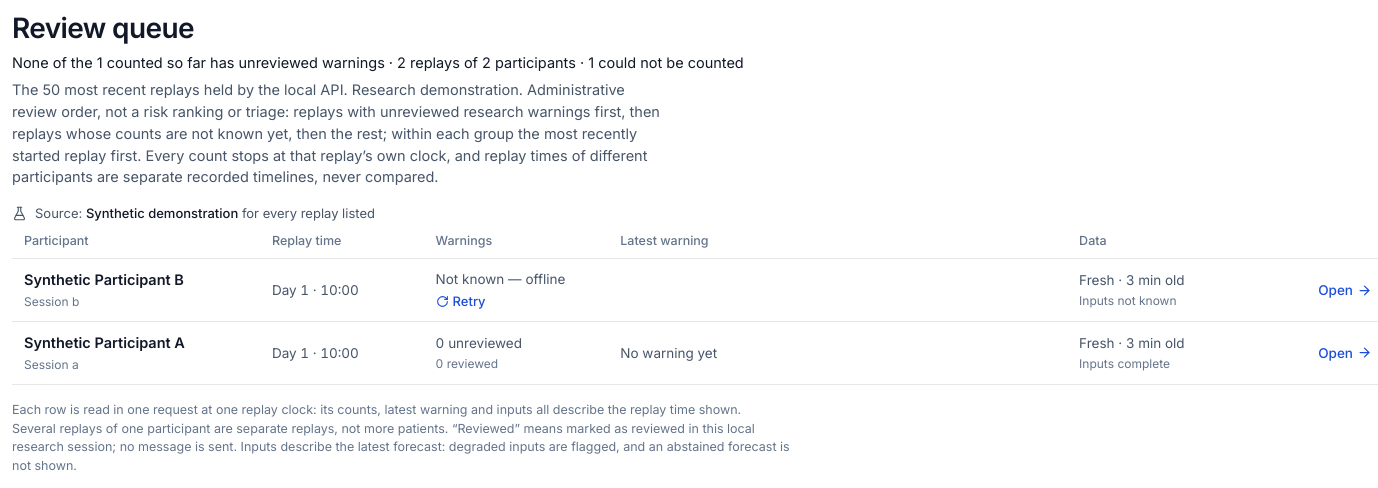
Test: review queue page › marks a failed row as not known, keeps the partial total honest, and retries on request
The width and height of the screenshot is (1378, 488).
Expected: the text "None of the 1 counted so far has unreviewed warnings · 2 replays of 2 participants · 1 could not be counted" is shown, [12,54,744,71]
Expected: the text "Not known — offline" is shown, [436,269,565,290]
Click the button with aria-label "Retry counting warnings for Synthetic Participant B".
click(461, 301)  # box [436,292,486,311]
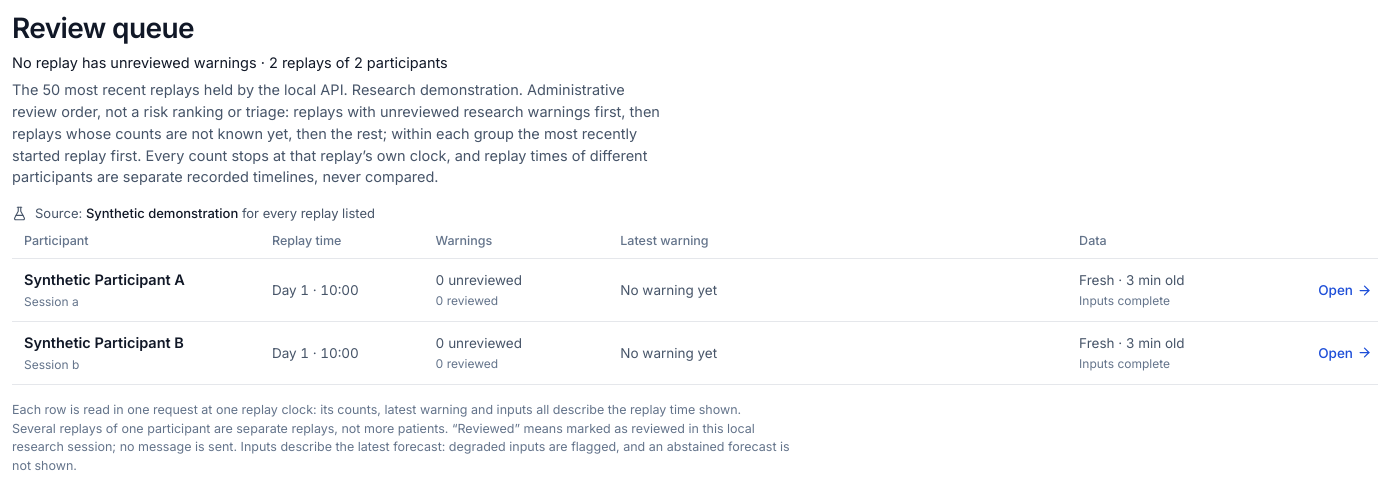
Expected: the text "No replay has unreviewed warnings · 2 replays of 2 participants" is shown, [12,54,448,71]
